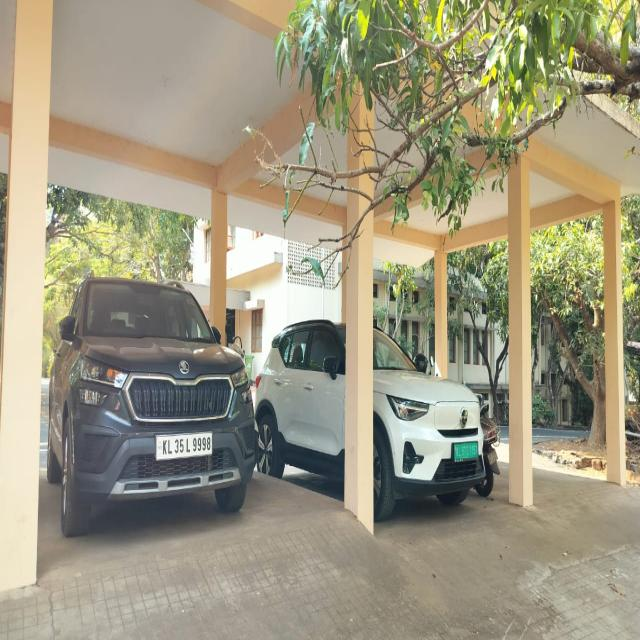car ahead at: (46, 251, 260, 538), (264, 308, 488, 520)
pillar ahead at: (338, 77, 388, 524), (504, 151, 539, 505), (596, 199, 628, 484)
